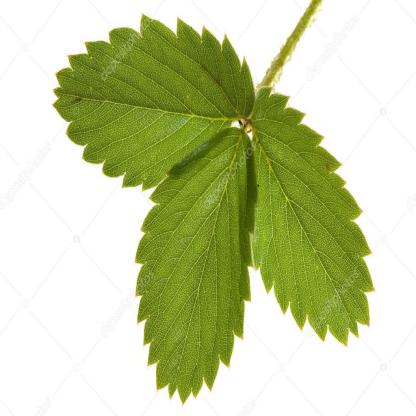Strawberry leaf: (120, 125, 263, 408), (50, 4, 259, 196), (241, 82, 380, 351)
